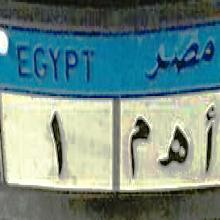1: (48, 108, 65, 178)
alif: (200, 102, 219, 174)
haa: (157, 118, 192, 178)
meem: (124, 113, 152, 182)
